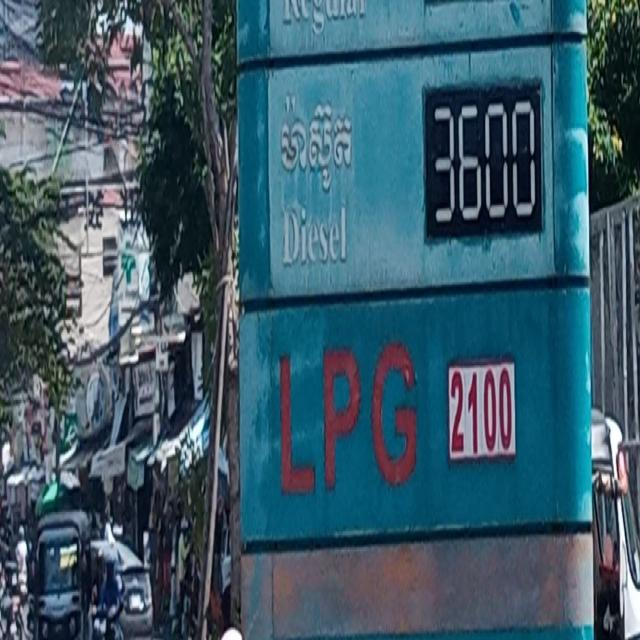659: (430, 355, 526, 500)
729: (426, 79, 548, 259)
Yolov11_80vkh: (276, 79, 360, 204)
